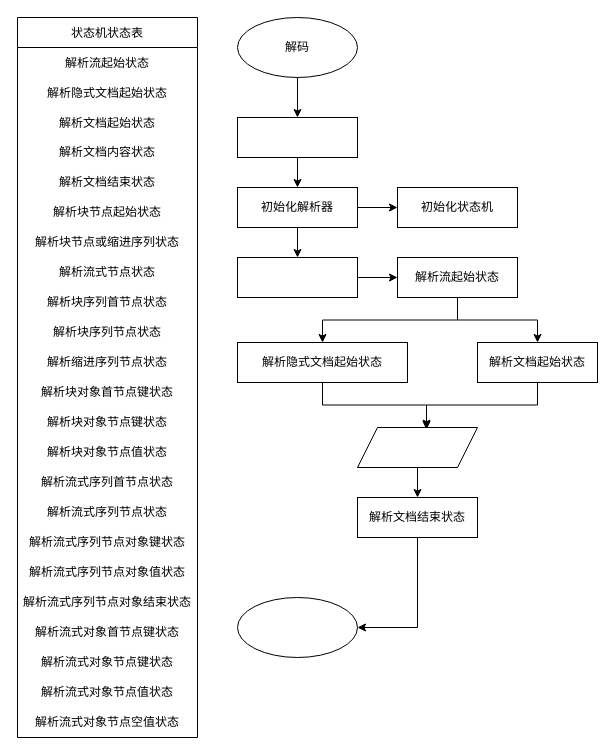
This 615x755 diagram has some shape labels left out. The shapes that lost their labels are listed below. From the top down, each one's centre as x and y in pixels, then its label:
the point at 297,137: 初始化解码器
the point at 297,277: 状态机状态轮询
the point at 417,447: 其他状态
the point at 297,627: 解码完成
